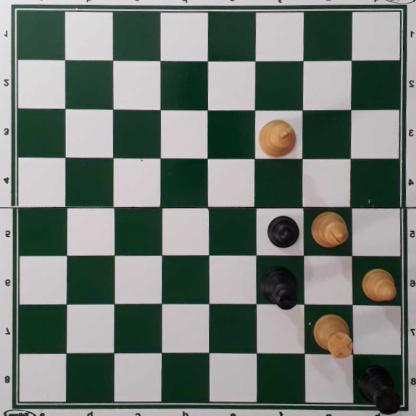black-king: (259, 267, 296, 309)
black-pawn: (266, 217, 299, 250)
black-rook: (356, 366, 400, 415)
white-bishop: (311, 212, 349, 250)
white-king: (256, 119, 297, 160)
white-pawn: (361, 268, 397, 304)
white-rook: (313, 315, 354, 360)
